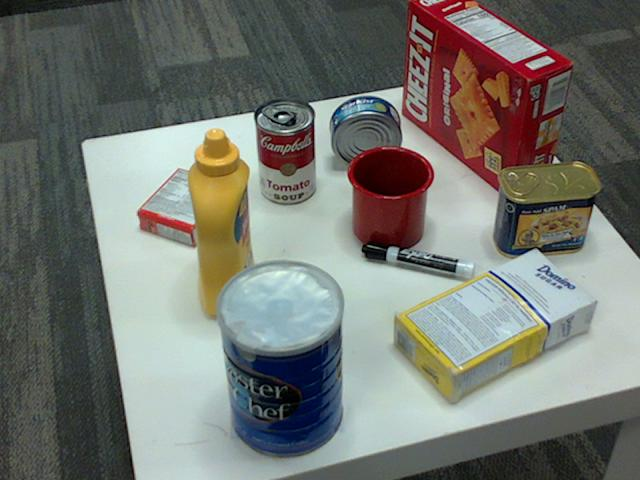cracker_box: (402, 0, 572, 198)
gelatin_box: (134, 165, 232, 244)
large_marker: (362, 241, 475, 283)
master_chef_can: (213, 262, 342, 461)
mug: (344, 144, 432, 249)
mustard_bottle: (185, 129, 255, 316)
potted_meat_can: (492, 163, 598, 259)
sugar_box: (390, 248, 594, 403)
tomato_soup_can: (253, 98, 315, 204)
tuna_fish_can: (328, 95, 400, 169)
